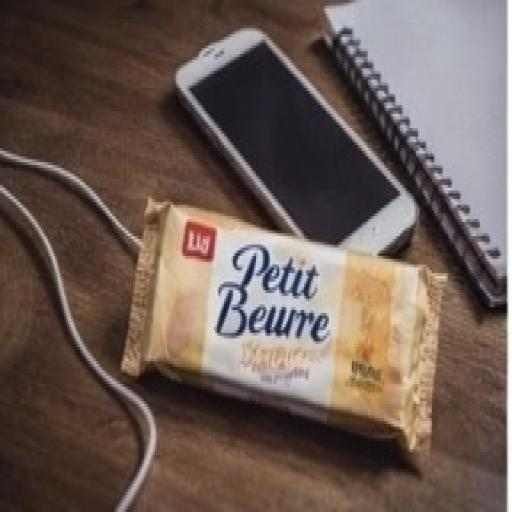petit_beurre: (110, 162, 484, 506)
